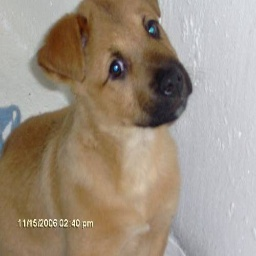dog: (3, 0, 193, 251)
